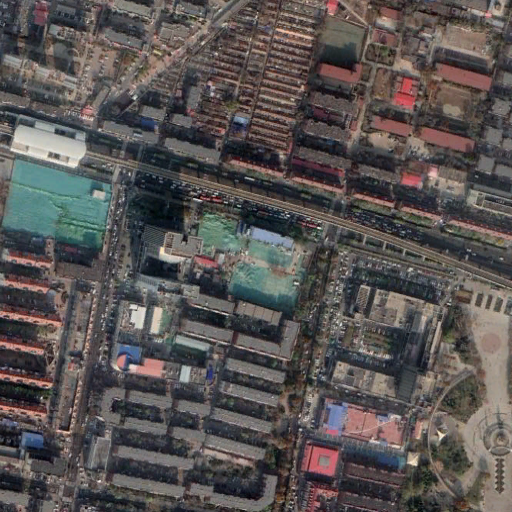cw: (192, 212, 303, 311), (3, 159, 110, 251)
